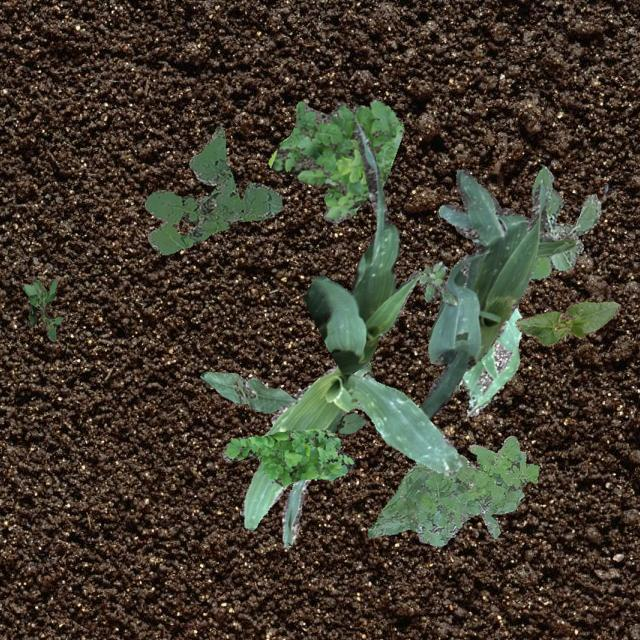crop: (238, 360, 462, 546), (420, 168, 576, 418), (304, 122, 421, 372), (458, 302, 520, 416), (514, 300, 618, 346), (200, 371, 296, 412), (330, 412, 368, 434)
weed: (366, 436, 538, 546), (143, 124, 280, 253), (268, 99, 402, 222), (530, 165, 600, 278), (220, 428, 354, 486), (22, 278, 62, 340), (418, 260, 456, 304)
